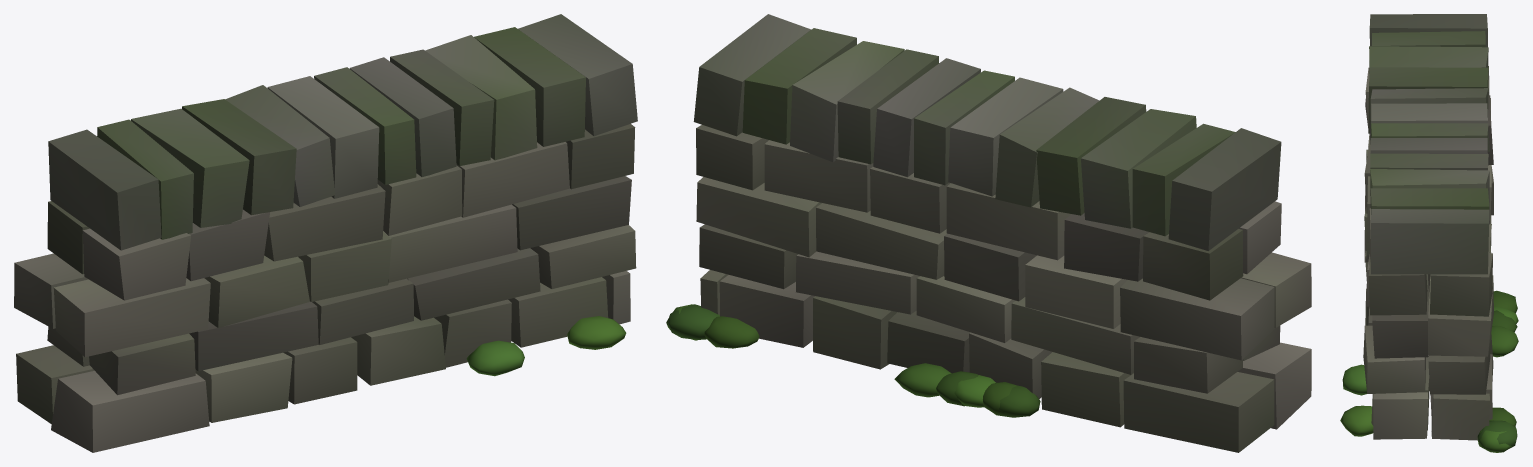
The model's file is wall_seg_b.glb.
3 renders of one model, left to right at view 1: azimuth 30°, elevation 25°; view 2: azimuth 150°, elevation 25°; view 3: azimuth 270°, elevation 25°, orthographic. The views are drawn at different scales.
Parts seen in each view (by area): view 1: wall_seg_b; view 2: wall_seg_b; view 3: wall_seg_b.
Boxes of the visible parts, x1=… form: wall_seg_b: x1=14, y1=14, x2=637, y2=452; wall_seg_b: x1=666, y1=14, x2=1311, y2=452; wall_seg_b: x1=1340, y1=14, x2=1518, y2=452.
Bounding box in the file's own units: 2.64 × 1.21 × 0.8518.
